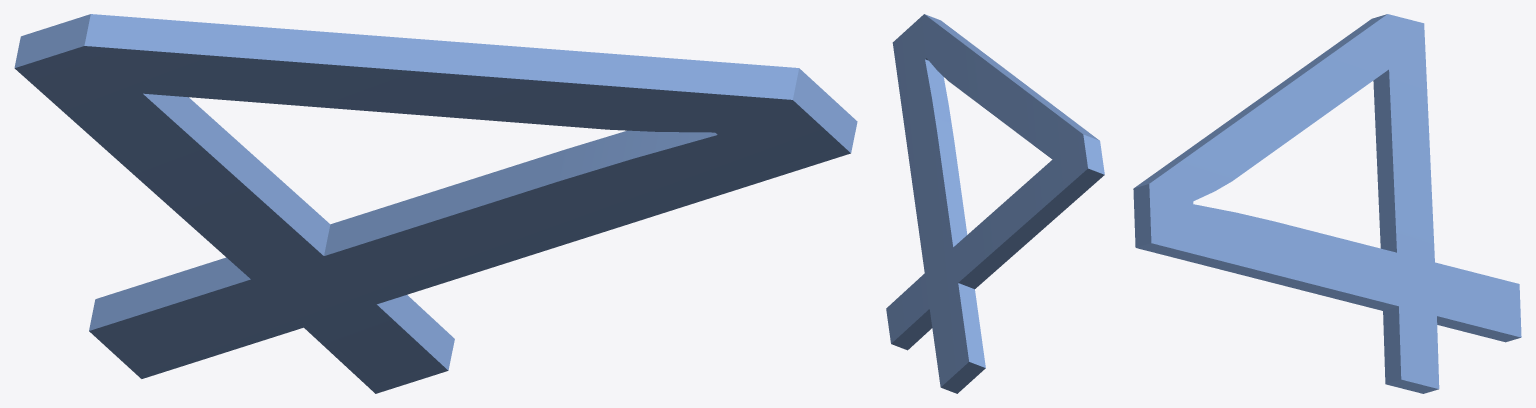
Rendered from New_Number_4.gltf.
3 renders of one model, left to right at view 1: azimuth 30°, elevation 25°; view 2: azimuth 150°, elevation 25°; view 3: azimuth 270°, elevation 25°, orthographic. The views are drawn at different scales.
Visible parts, largest first — view 1: Part 175; view 2: Part 175; view 3: Part 175.
Boxes of the visible parts, box(x1,y1,x2,y2) form: Part 175: box(14, 14, 857, 393); Part 175: box(886, 14, 1104, 393); Part 175: box(1133, 14, 1521, 393).
Size of the model in its own units: 0.00465 by 0.00338 by 0.00413.
